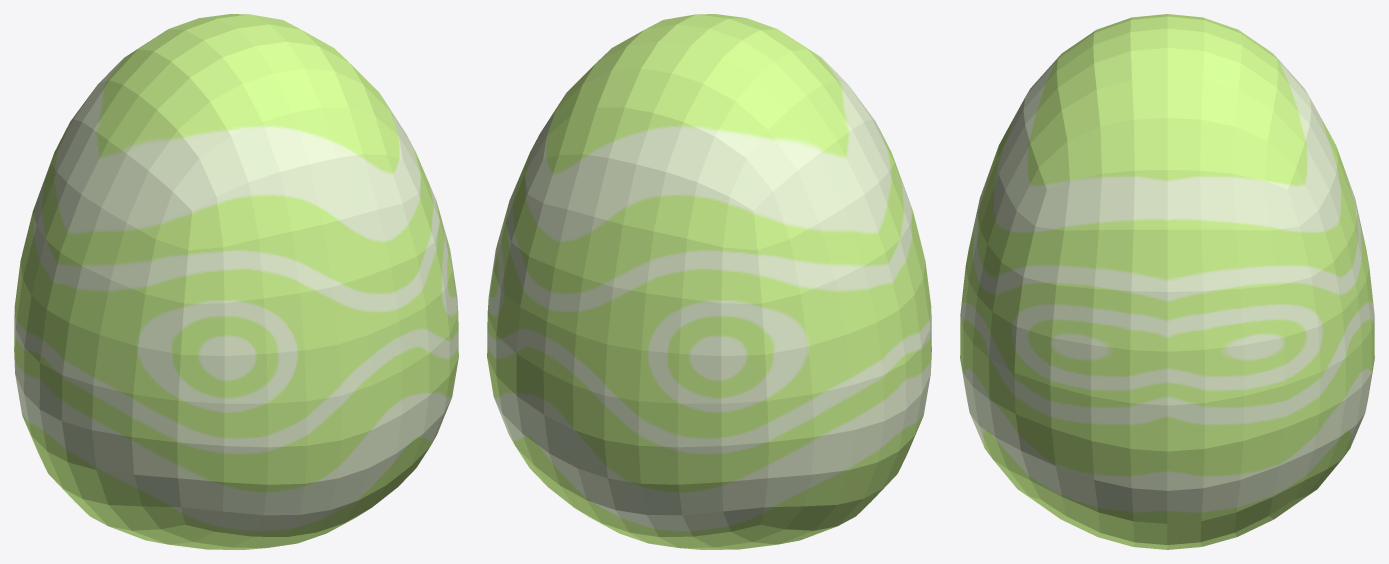
File: Egg_green.fbx
3 renders of one model, left to right at view 1: azimuth 30°, elevation 25°; view 2: azimuth 150°, elevation 25°; view 3: azimuth 270°, elevation 25°, orthographic.
Parts seen in each view (by area): view 1: Egg; view 2: Egg; view 3: Egg.
Part boxes in pixels (x1,y1,x2,y2): Egg: [14, 14, 458, 549]; Egg: [487, 14, 931, 549]; Egg: [960, 14, 1374, 549].
Bounding box in the file's own units: 210 × 256 × 195.
Materials: 1 (1 with a texture image).
